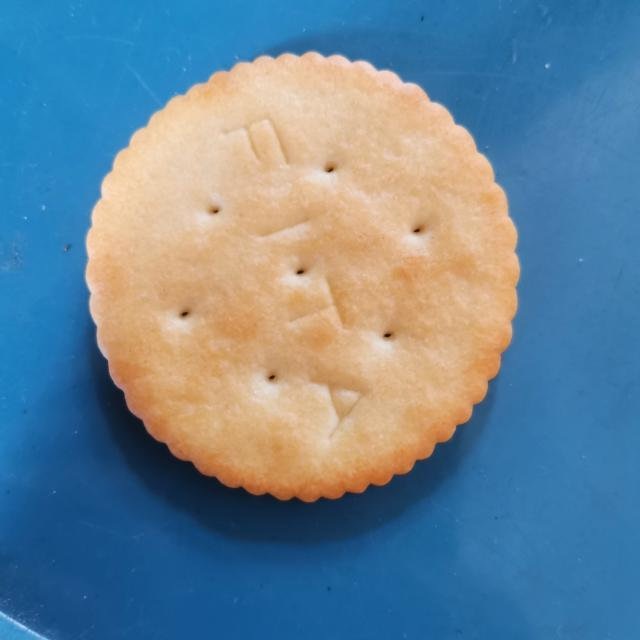Intact: (73, 33, 529, 510)
